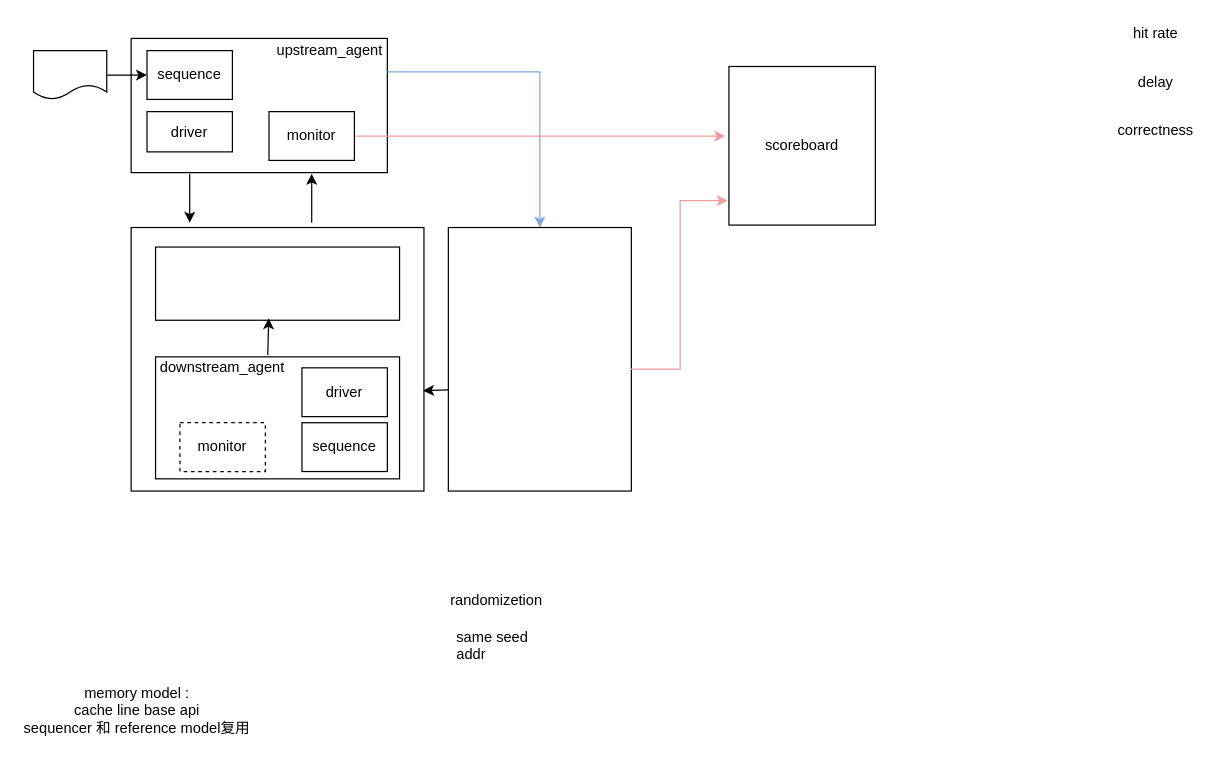
Image size: 1225x758. Some labels were removed from this diagram. The shapes that lost their labels are listed below. From the top down, each one's centre as x and y in pixels, then its label:
At (69,74): "transaction".
At (277,283): "DUT".
At (539,358): "reference model (memory)".
